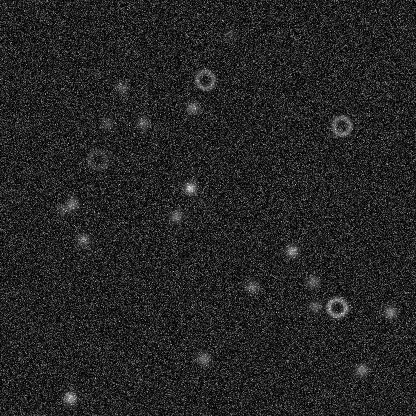Ring: (192, 67, 216, 91), (324, 295, 348, 319), (329, 113, 353, 137), (85, 147, 109, 171)
Spot: (55, 201, 71, 217), (134, 115, 150, 131), (244, 278, 260, 294), (221, 25, 237, 41), (353, 361, 369, 377), (99, 115, 115, 131), (61, 389, 77, 405), (307, 298, 323, 314), (75, 231, 91, 247), (382, 304, 398, 320), (113, 79, 129, 95), (182, 179, 198, 195), (195, 350, 211, 366), (63, 195, 79, 211), (167, 208, 183, 224), (283, 242, 299, 258), (304, 273, 320, 289), (184, 99, 200, 115)
